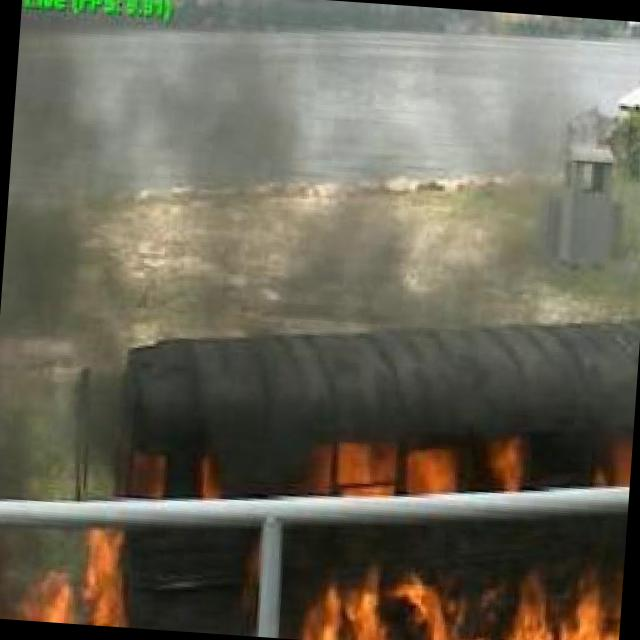Fire: (305, 537, 624, 640), (296, 442, 498, 514), (0, 523, 137, 627), (477, 423, 632, 487), (124, 446, 232, 502)
Smoke: (0, 7, 608, 452)
